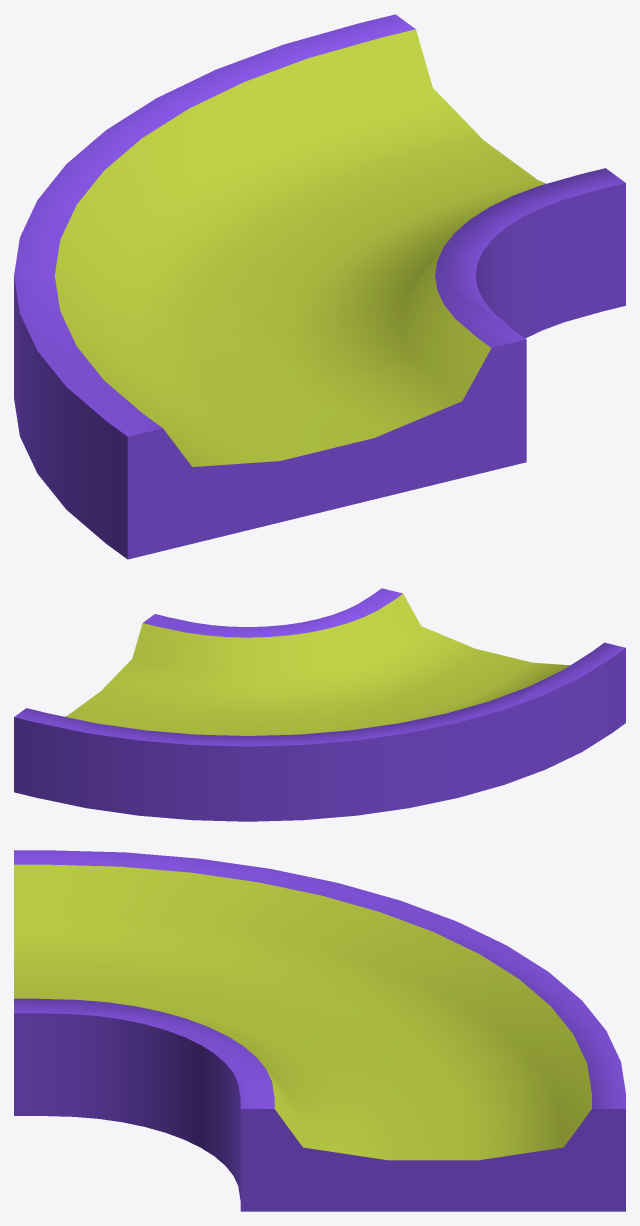
The model's file is curve_wide_medium-col.dae.
3 renders of one model, top to bottom at view 1: azimuth 30°, elevation 25°; view 2: azimuth 150°, elevation 25°; view 3: azimuth 270°, elevation 25°, orthographic. The views are drawn at different scales.
Parts seen in each view (by area): view 1: curve_wide_medium-col; view 2: curve_wide_medium-col; view 3: curve_wide_medium-col.
Part boxes in pixels (bbox=[...]): curve_wide_medium-col: bbox=[14, 14, 625, 559]; curve_wide_medium-col: bbox=[14, 588, 625, 821]; curve_wide_medium-col: bbox=[14, 850, 625, 1211].
Size of the model in its own units: 2.7 by 2.7 by 0.5.
